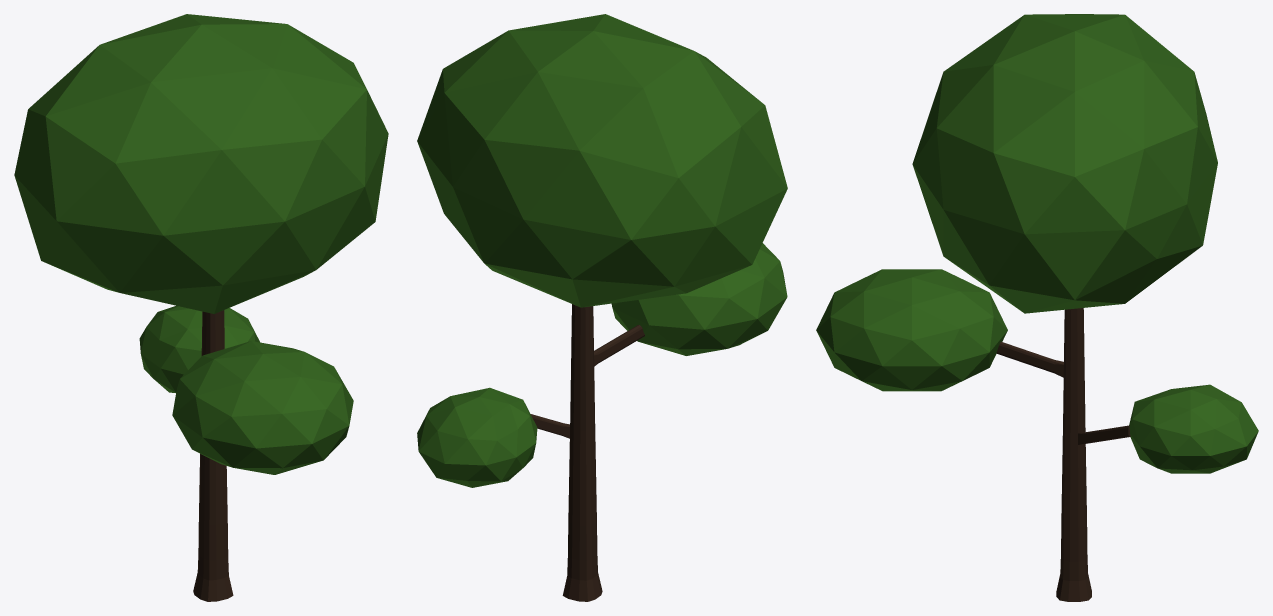
Rendered from arvore03 (1).fbx.
3 views of the same model, side by side, from view 1: azimuth 30°, elevation 25°; view 2: azimuth 150°, elevation 25°; view 3: azimuth 270°, elevation 25° (orthographic). The views are drawn at different scales.
Visible parts, largest first — view 1: folhaTopo, folhaCima, tronco, folhaBaixo; view 2: folhaTopo, folhaCima, tronco, folhaBaixo; view 3: folhaTopo, folhaCima, folhaBaixo, tronco.
Part boxes in pixels (x1,y1,x2,y2): folhaTopo: (14, 14, 388, 313); folhaCima: (172, 341, 353, 474); tronco: (193, 310, 233, 601); folhaBaixo: (139, 305, 260, 392); folhaTopo: (417, 14, 787, 307); folhaCima: (611, 243, 787, 355); tronco: (530, 304, 644, 601); folhaBaixo: (417, 387, 537, 487); folhaTopo: (912, 14, 1217, 313); folhaCima: (816, 269, 1007, 391); folhaBaixo: (1129, 384, 1258, 473); tronco: (996, 308, 1130, 601).
Size of the model in its own units: 1205 by 1982 by 1425.
